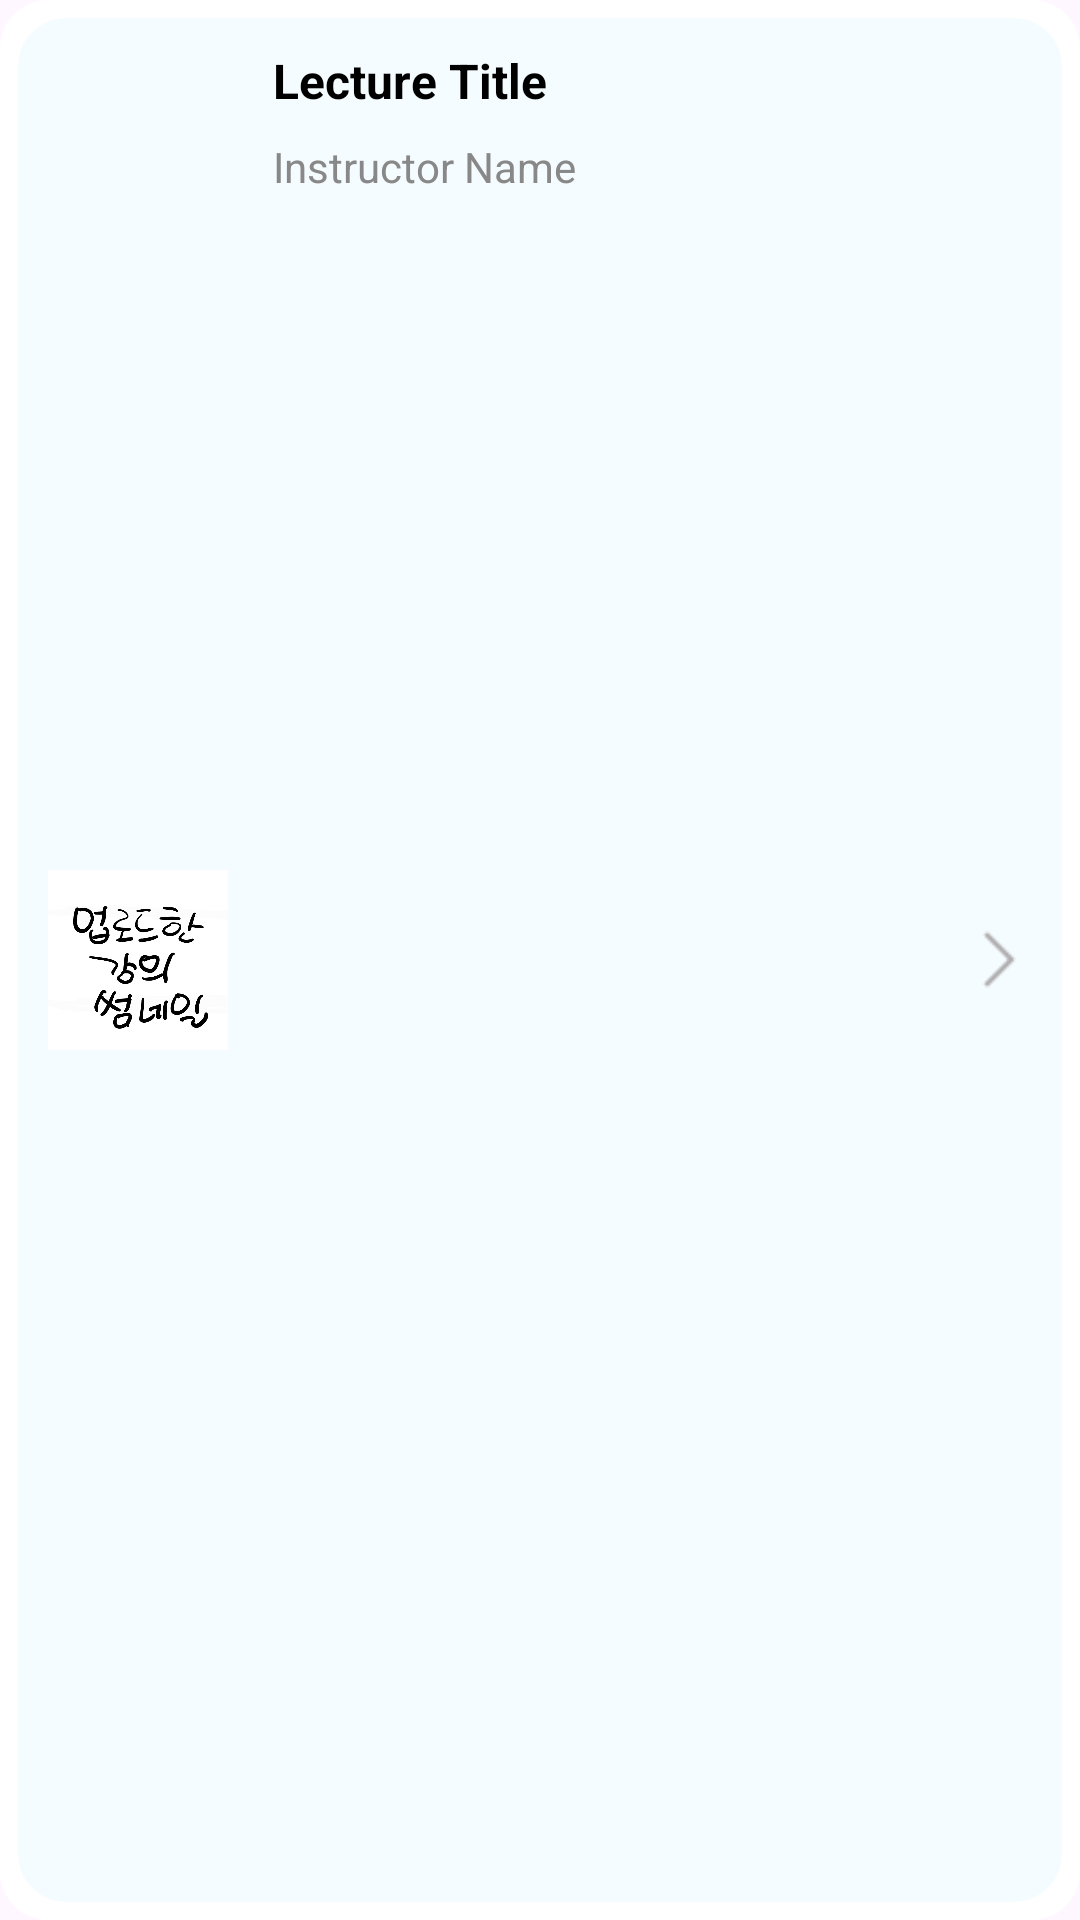

Named icons in this screenshot (1080×1920) and their bounding boxes, (x1, y1, x2, y2):
right errow: (984, 933, 1014, 986)
